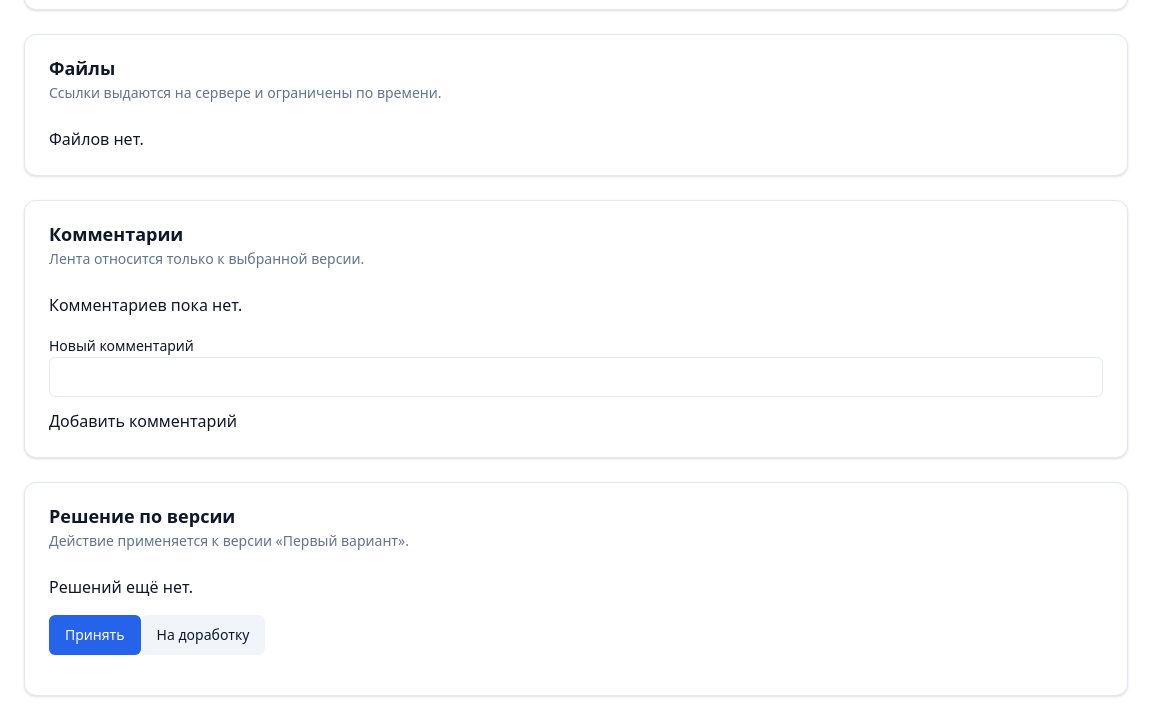
ClientProof UI › project page surfaces a decision conflict and keeps actions enabled
(page scrolled)
Step 1. Click the button "На доработку" → click(203, 635), box 141,615 -> 266,655
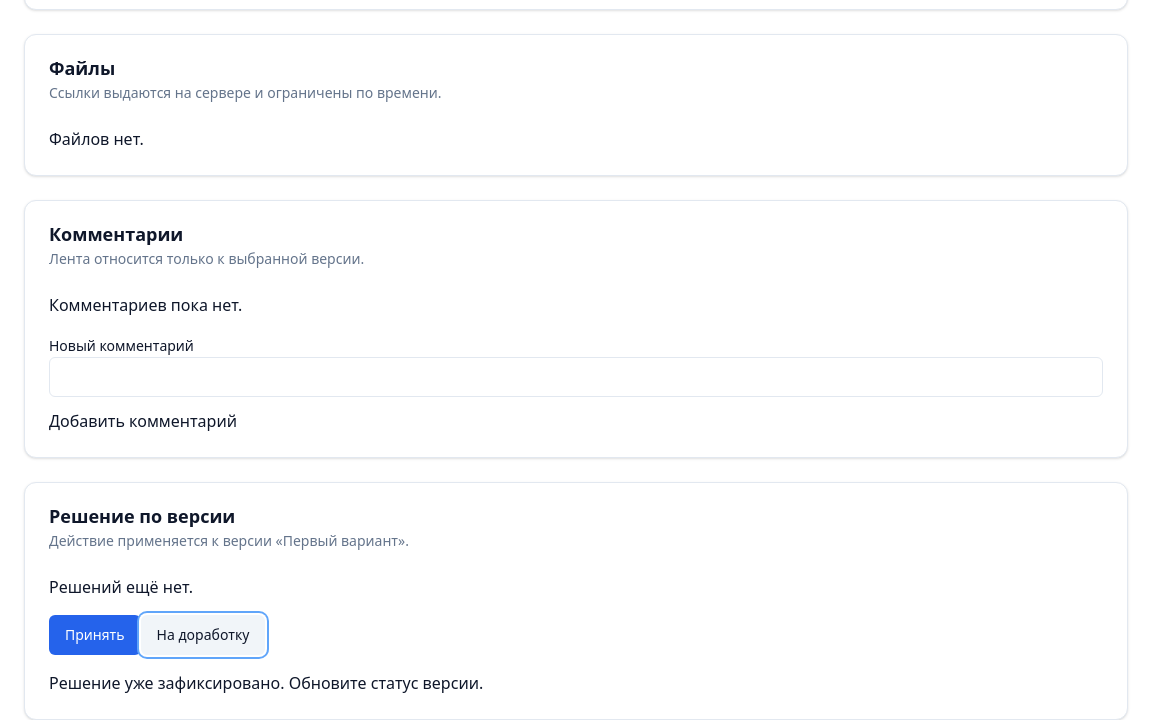
Check: the message "Решение уже зафиксировано. Обновите статус версии." is shown, box 49,672 -> 483,694
